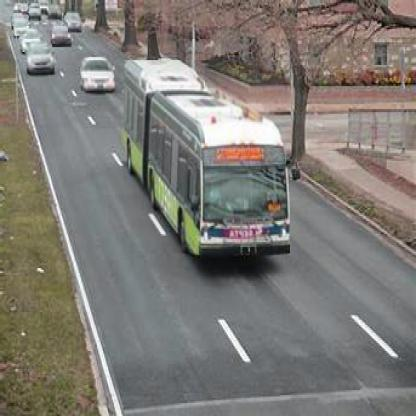bus: (123, 61, 291, 256)
car: (81, 58, 116, 94), (26, 47, 58, 78), (23, 29, 43, 55), (52, 29, 72, 50), (68, 13, 86, 36), (14, 16, 28, 39), (48, 8, 63, 22), (30, 8, 41, 24)
